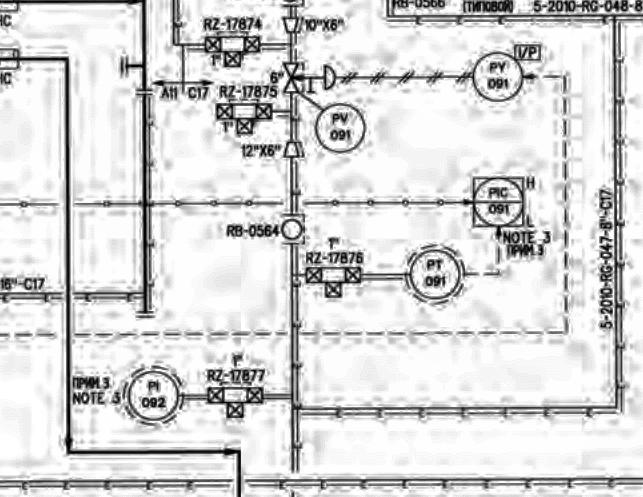2 WAY VALVE: (200, 379, 268, 425), (214, 94, 276, 138), (301, 263, 368, 303), (201, 30, 266, 70)
CONCENTRIC REDUCER: (281, 137, 304, 168), (279, 13, 306, 35)
DCS ACCESSIBLE: (464, 174, 532, 237)
END CAP: (314, 63, 342, 93)
END FLANGED: (116, 54, 135, 78), (130, 84, 160, 98)
FIELD INSTRUMENT: (397, 240, 475, 312), (117, 360, 190, 431), (311, 103, 371, 154), (470, 51, 526, 105), (279, 209, 304, 247)
GATE VALVE: (280, 57, 306, 104)
IP CONVERTER: (513, 37, 543, 68)
